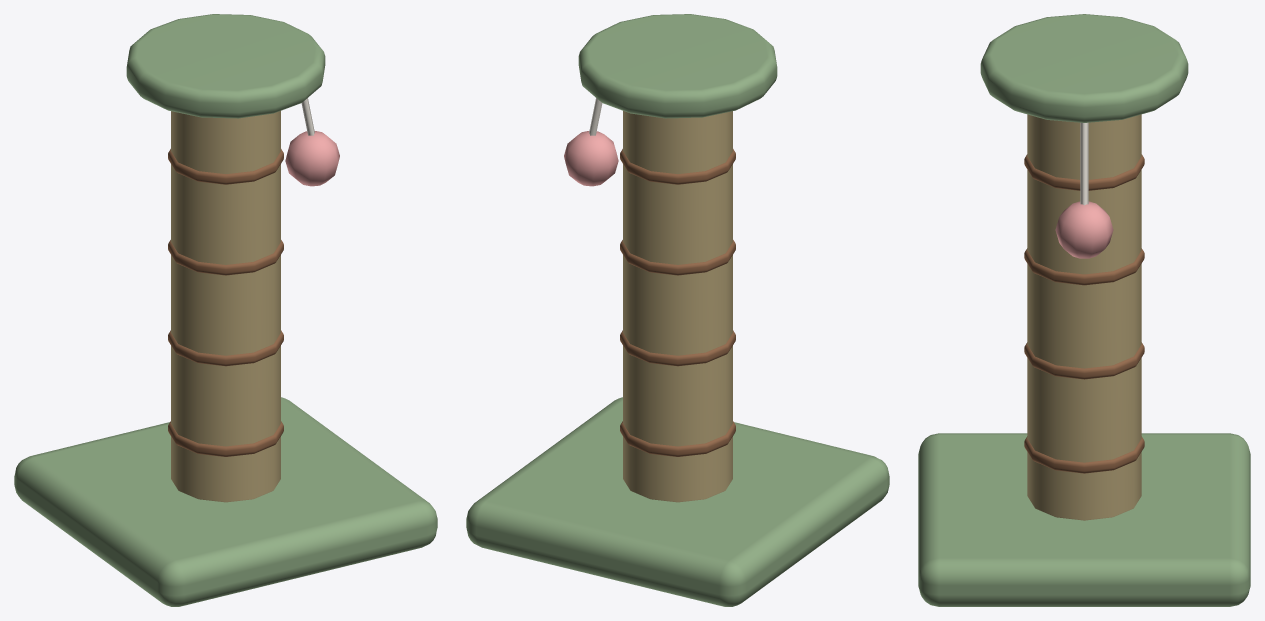
The model's file is petroom_scratch_post.glb.
The picture shows the model from 3 angles, left to right: view 1: azimuth 30°, elevation 25°; view 2: azimuth 150°, elevation 25°; view 3: azimuth 270°, elevation 25°; orthographic projection. The views are drawn at different scales.
Parts seen in each view (by area): view 1: petroom_scratch_post_mesh; view 2: petroom_scratch_post_mesh; view 3: petroom_scratch_post_mesh.
Boxes of the visible parts, <box> form: petroom_scratch_post_mesh: <box>14,14,437,606</box>; petroom_scratch_post_mesh: <box>466,14,889,606</box>; petroom_scratch_post_mesh: <box>918,14,1250,606</box>.
Size of the model in its own units: 0.32 by 0.52 by 0.32.
